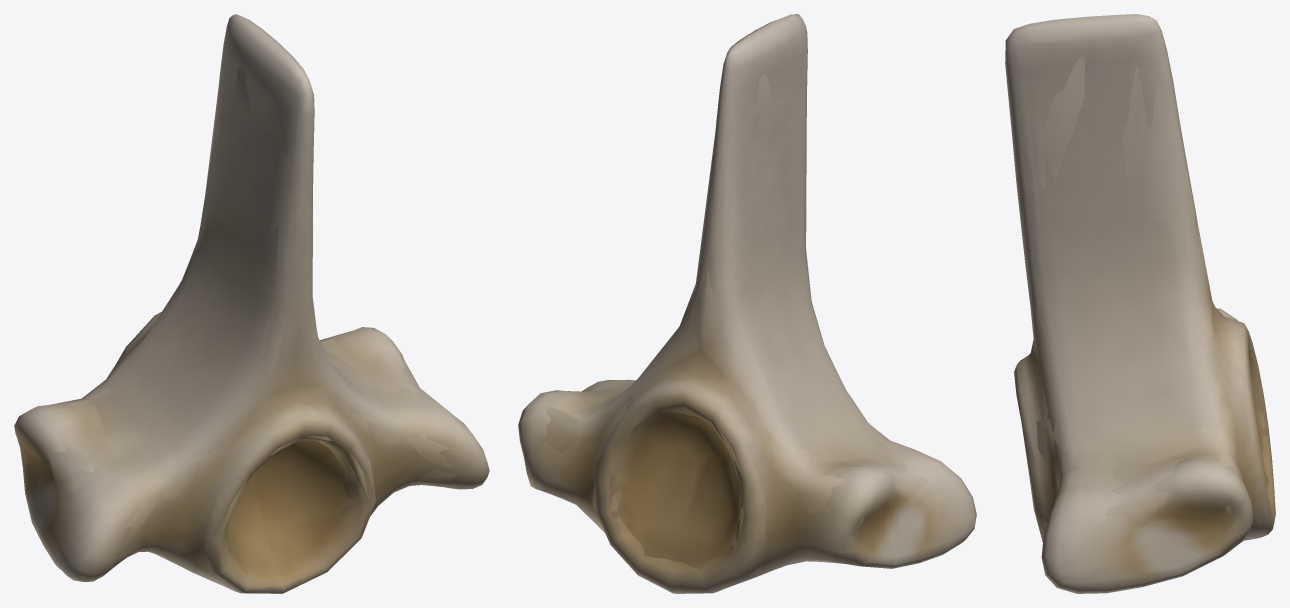
The model's file is vertebrae thoracicae 12.fbx.
The picture shows the model from 3 angles, left to right: view 1: azimuth 30°, elevation 25°; view 2: azimuth 150°, elevation 25°; view 3: azimuth 270°, elevation 25°; orthographic projection. The views are drawn at different scales.
Parts seen in each view (by area): view 1: vertebrae thoracicae 12, vertebrae thoracicae 12 low; view 2: vertebrae thoracicae 12, vertebrae thoracicae 12 low; view 3: vertebrae thoracicae 12, vertebrae thoracicae 12 low.
Part boxes in pixels (<box>): vertebrae thoracicae 12: <box>14,14,489,593</box>; vertebrae thoracicae 12 low: <box>18,67,459,590</box>; vertebrae thoracicae 12: <box>518,14,976,593</box>; vertebrae thoracicae 12 low: <box>531,74,929,576</box>; vertebrae thoracicae 12: <box>1005,14,1275,593</box>; vertebrae thoracicae 12 low: <box>1018,56,1269,541</box>.
Size of the model in its own units: 4.95 by 6.24 by 2.84.
Materials: 1 (1 with a texture image).
